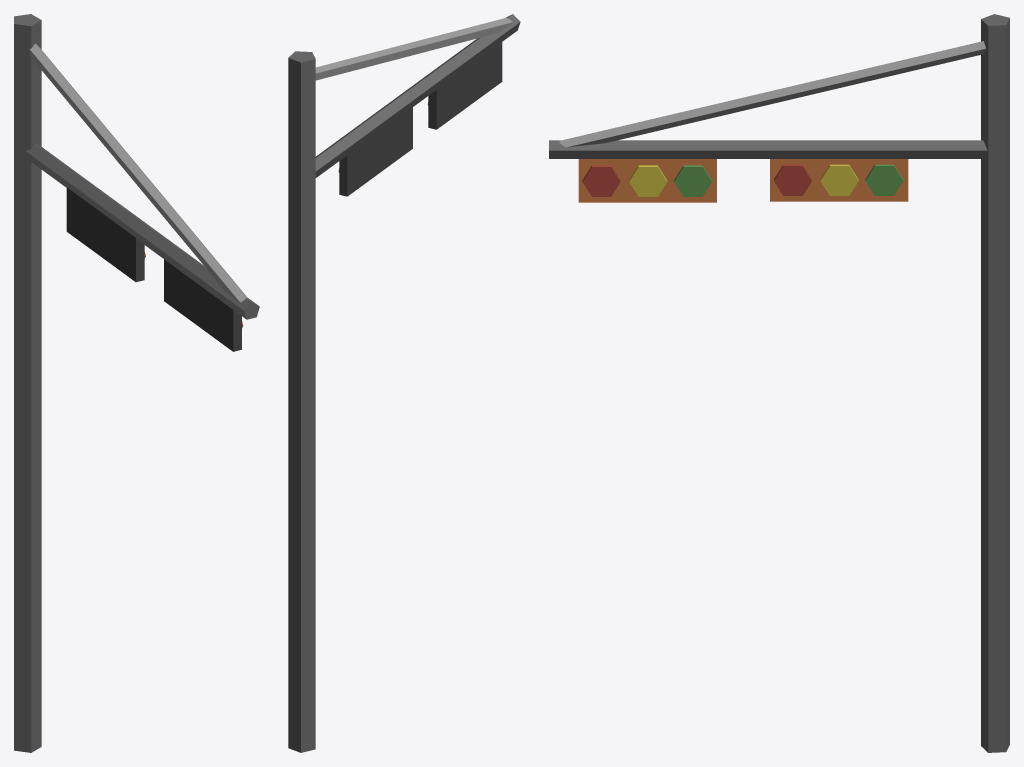
File: pillar_004.fbx
The picture shows the model from 3 angles, left to right: view 1: azimuth 30°, elevation 25°; view 2: azimuth 150°, elevation 25°; view 3: azimuth 270°, elevation 25°; orthographic projection. The views are drawn at different scales.
Parts seen in each view (by area): view 1: pillar_004; view 2: pillar_004; view 3: pillar_004.
Boxes of the visible parts, <box> form: pillar_004: <box>14,14,259,752</box>; pillar_004: <box>288,14,520,752</box>; pillar_004: <box>549,14,1009,752</box>.
Size of the model in its own units: 16.87 by 475 by 273.
